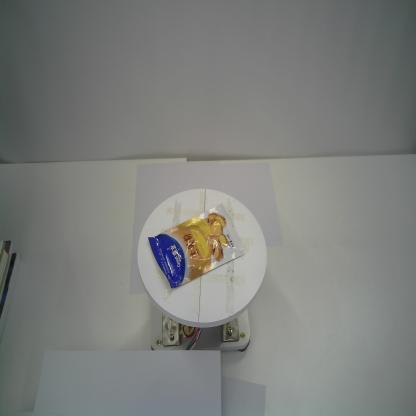Seasoner: (147, 202, 246, 289)
